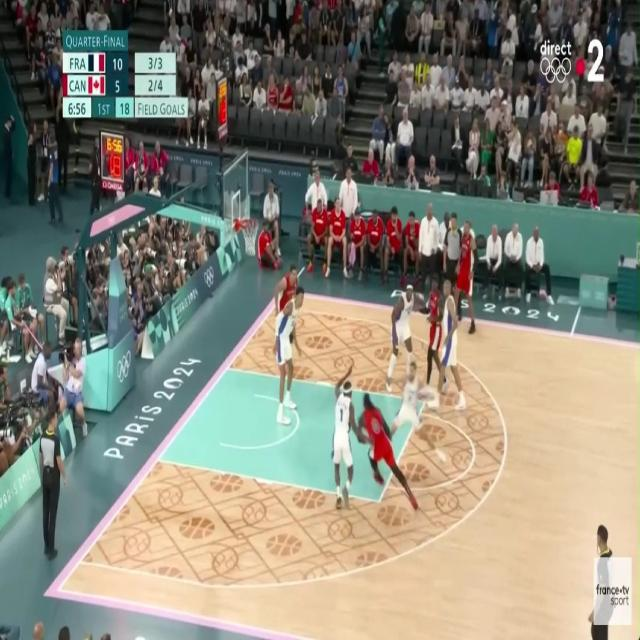ball_handler: (358, 391, 424, 514)
